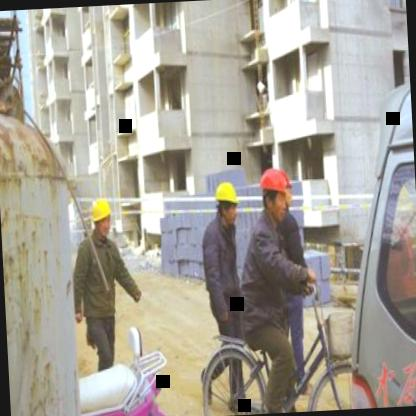helmet: (256, 162, 294, 224), (212, 177, 242, 227), (88, 195, 116, 240)
